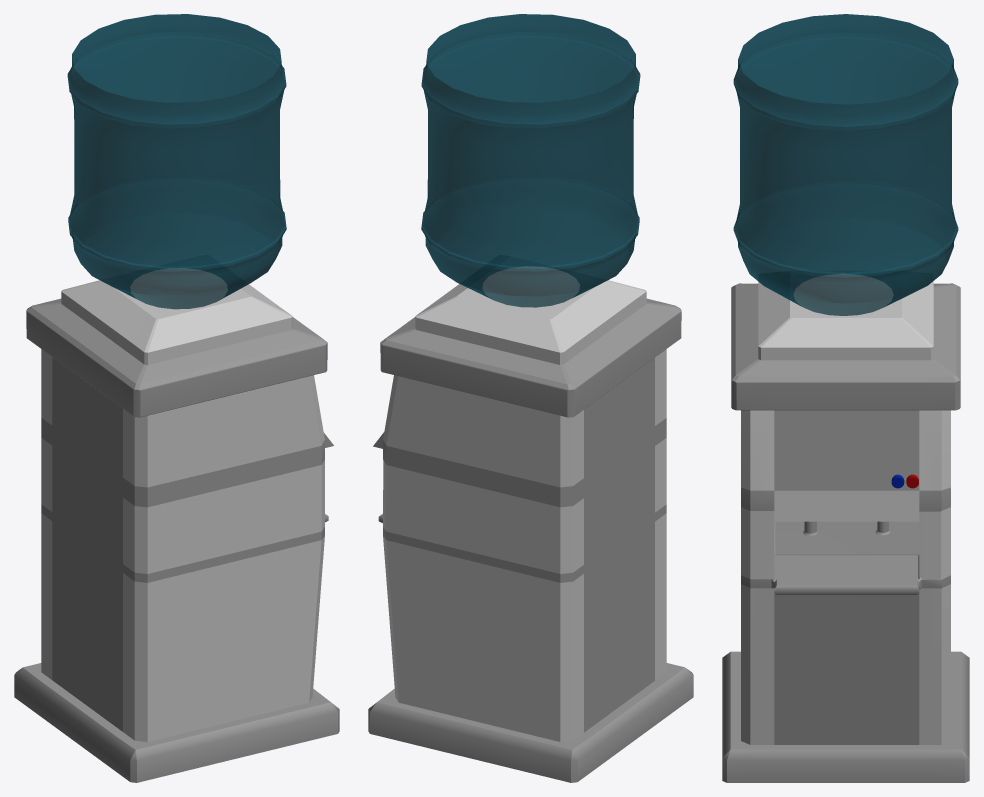
Rendered from water tank 1.fbx.
3 renders of one model, left to right at view 1: azimuth 30°, elevation 25°; view 2: azimuth 150°, elevation 25°; view 3: azimuth 270°, elevation 25°, orthographic. The views are drawn at different scales.
Parts seen in each view (by area): view 1: pCylinder10; view 2: pCylinder10; view 3: pCylinder10.
Part boxes in pixels (<box>): pCylinder10: <box>14,14,339,782</box>; pCylinder10: <box>368,14,693,782</box>; pCylinder10: <box>722,14,969,782</box>.
Bounding box in the file's own units: 11.84 × 32.67 × 10.91.
